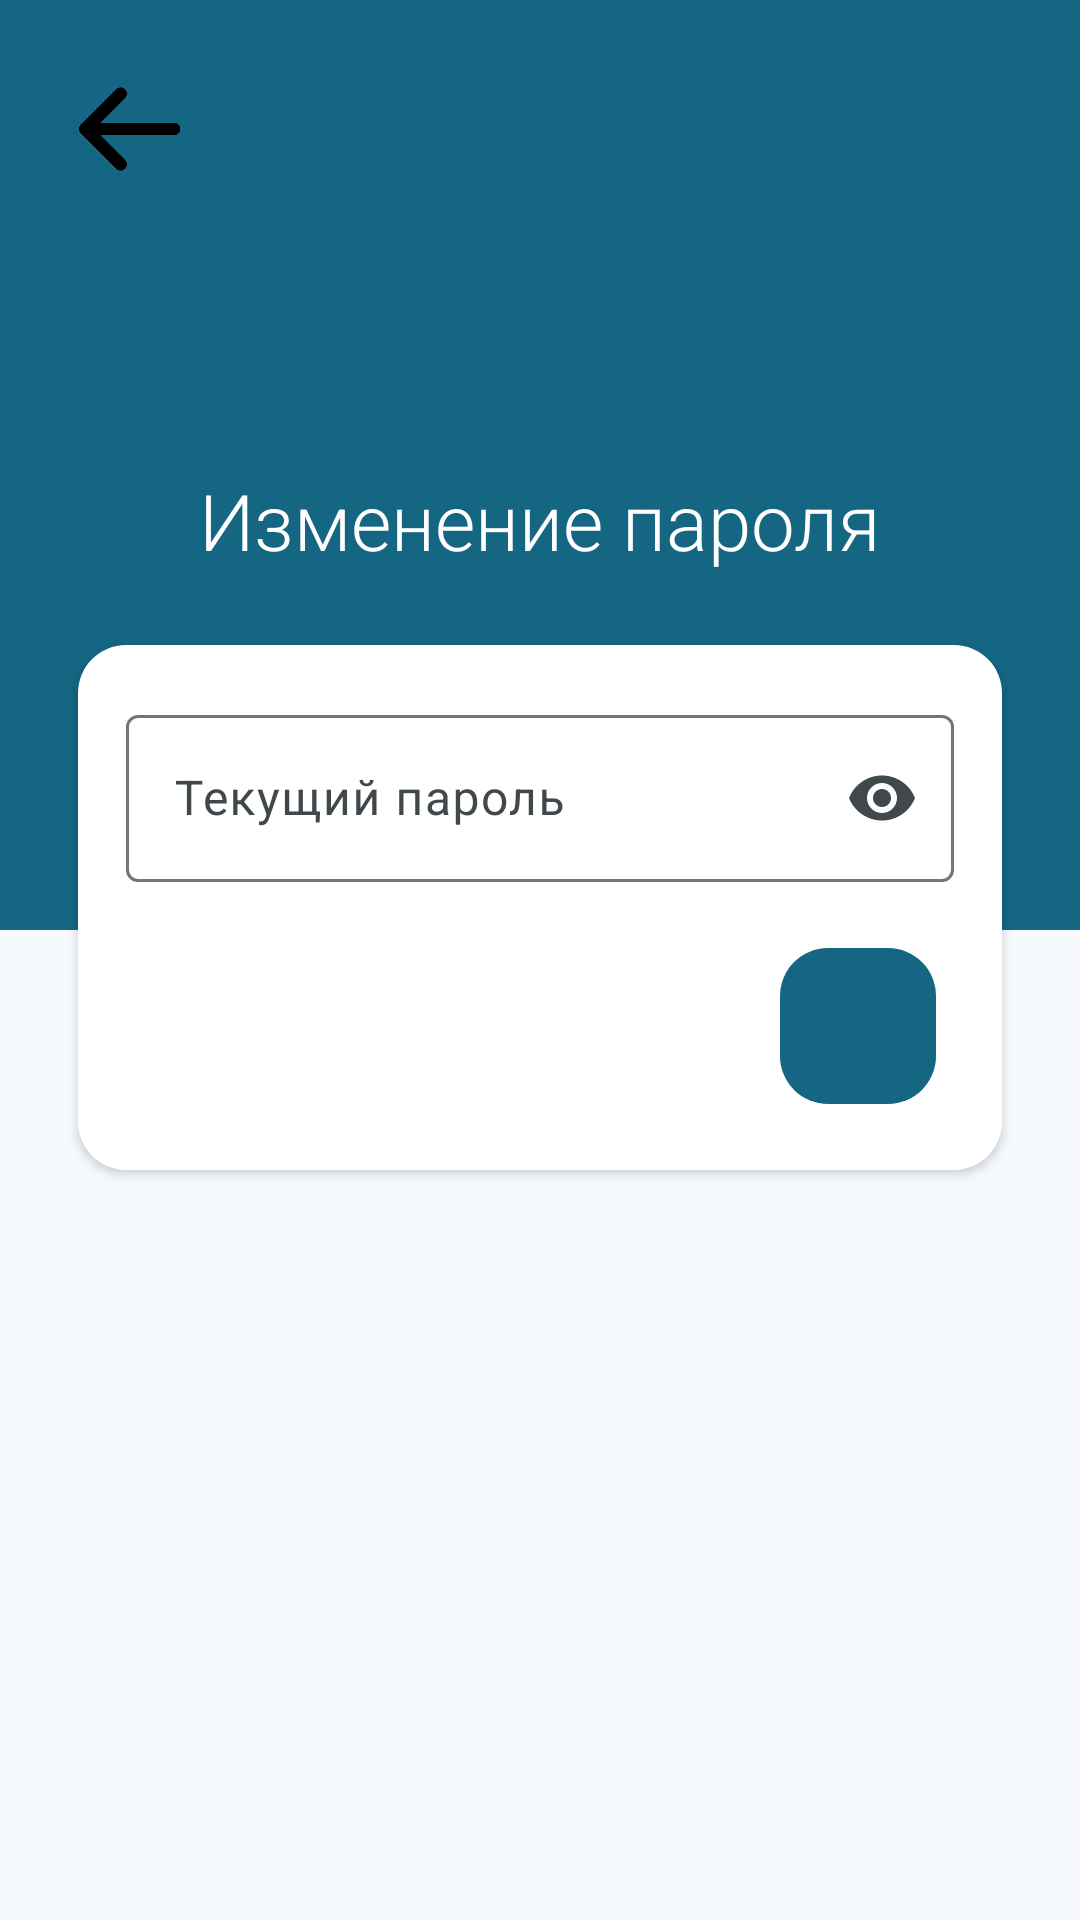

Named icons in this screenshot (1080×1920) and their bounding boxes, (x1, y1, x2, y2):
back: (79, 87, 180, 171)
